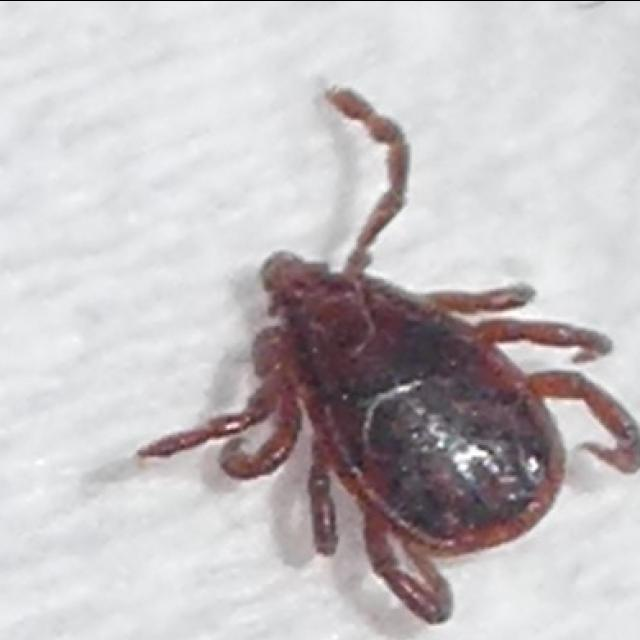Rhipicephalus Sanguineus-M: (136, 84, 640, 625)
